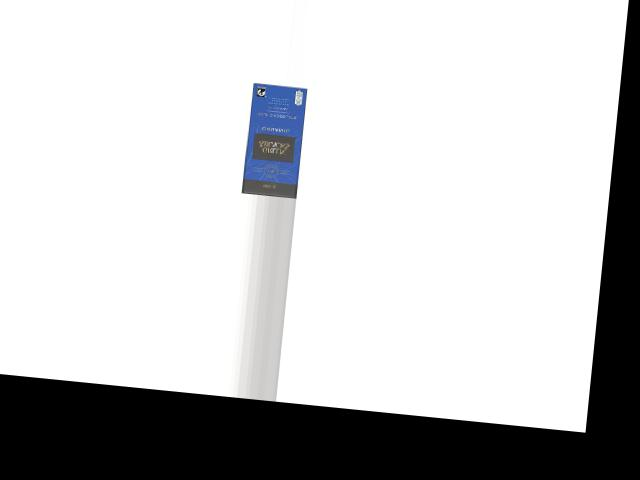chocolate: (241, 84, 308, 198)
